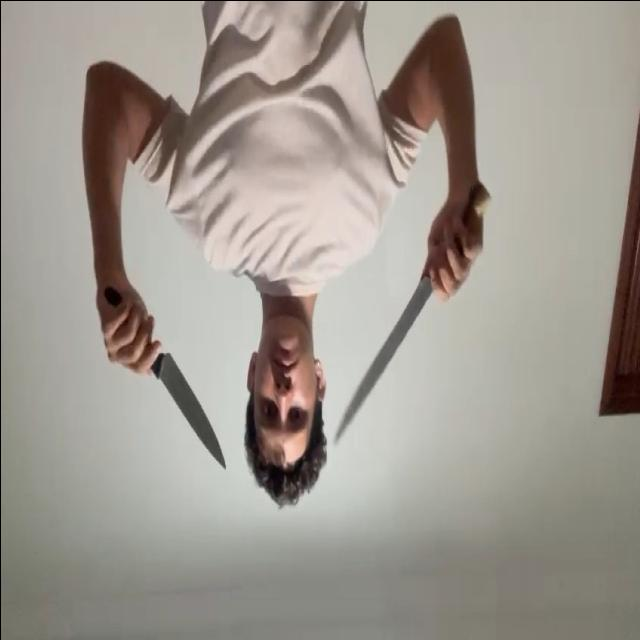Knife: (333, 174, 492, 444), (100, 274, 227, 470)
